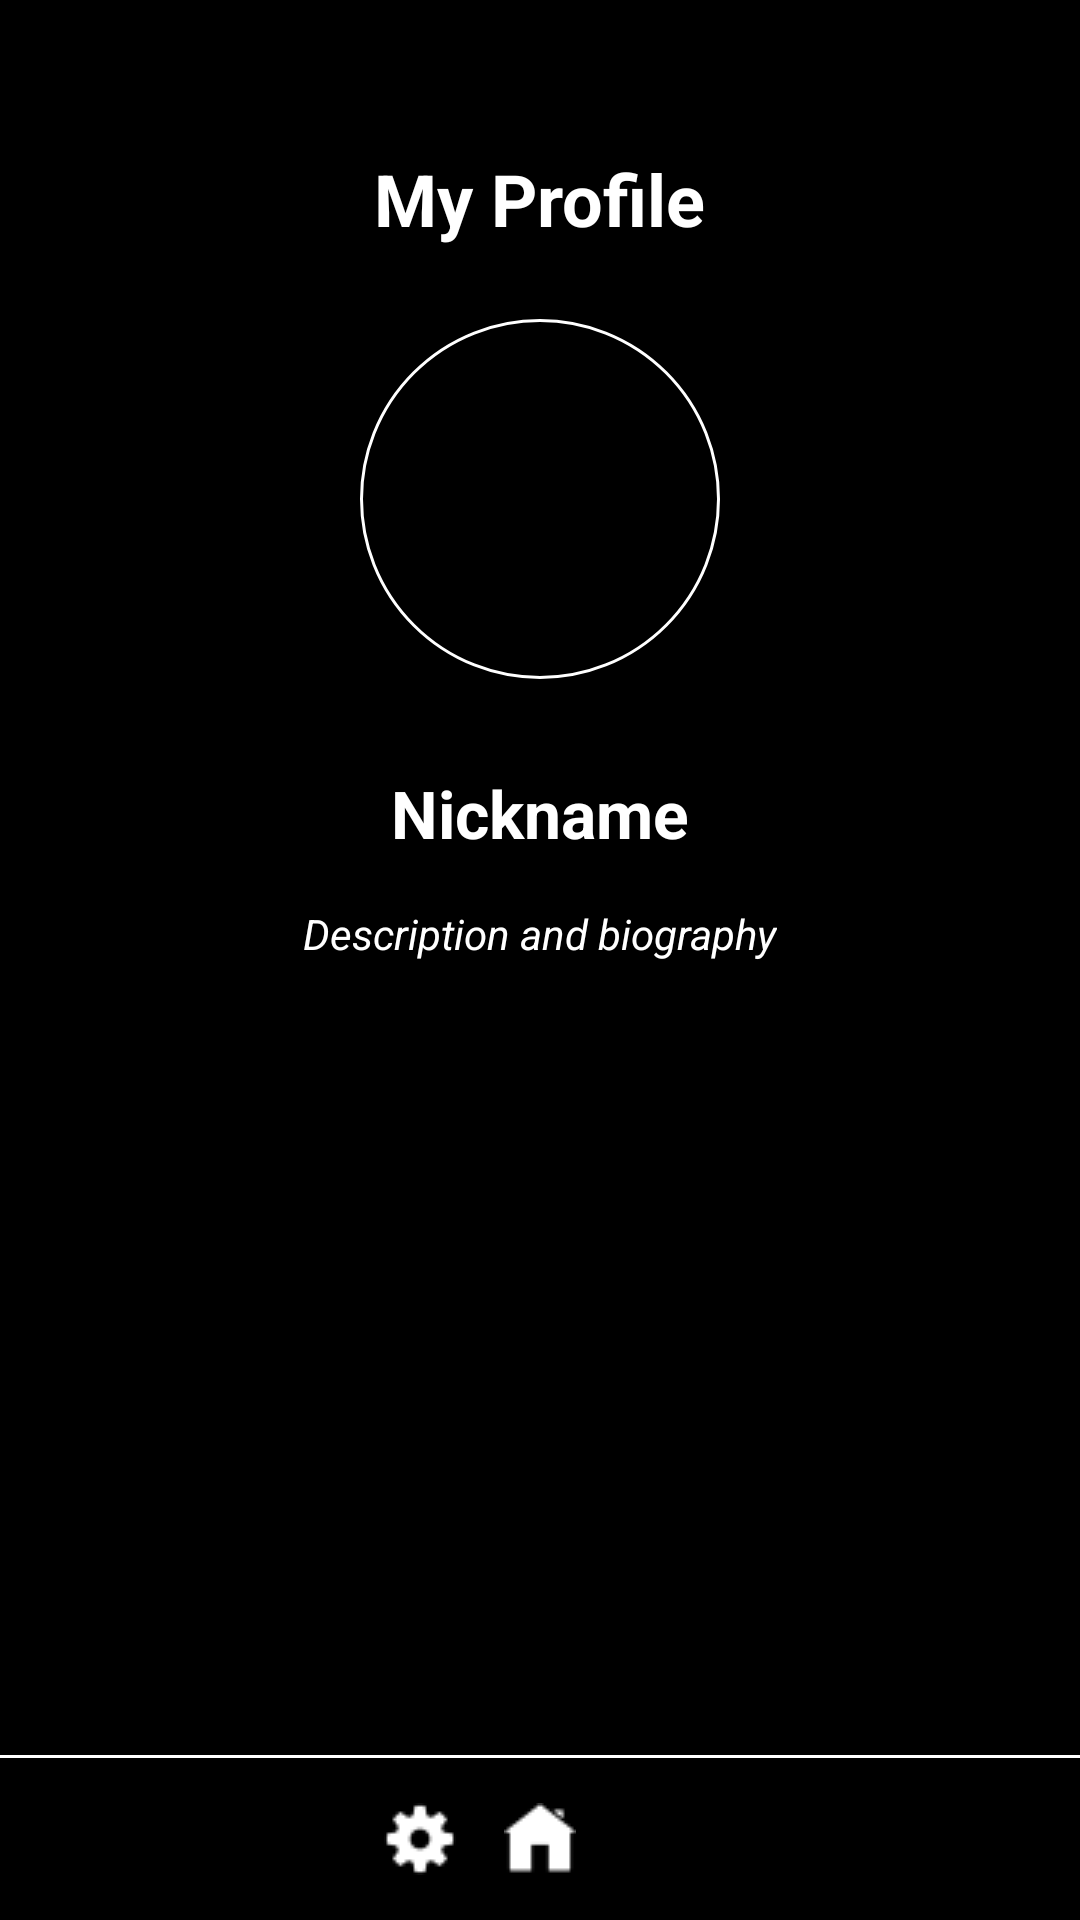

Where to tap for icons on this 1080x1920 app screen, as (x,y):
ajustes bueno: (420,1839)
casa: (540,1838)
